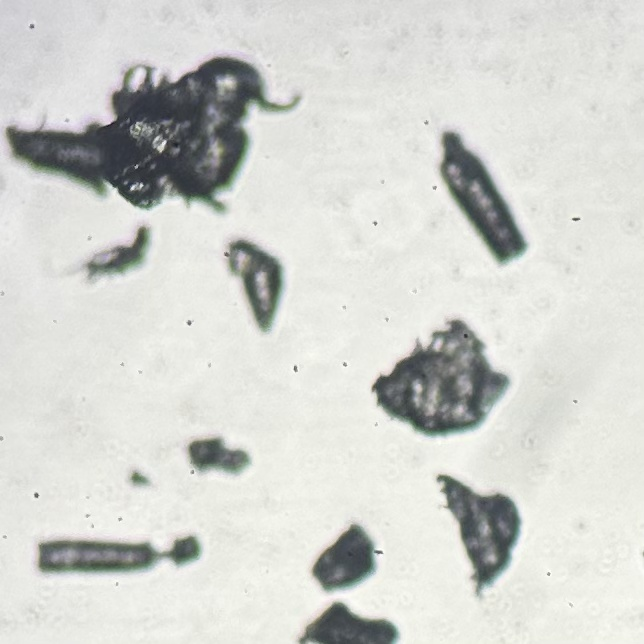microplastic: (3, 55, 305, 217), (370, 315, 515, 441), (434, 127, 530, 270), (430, 471, 524, 606), (224, 237, 287, 336), (307, 522, 381, 595), (293, 598, 405, 644), (35, 537, 158, 577), (79, 221, 153, 287), (185, 434, 251, 476), (167, 532, 207, 570), (126, 468, 156, 490)
